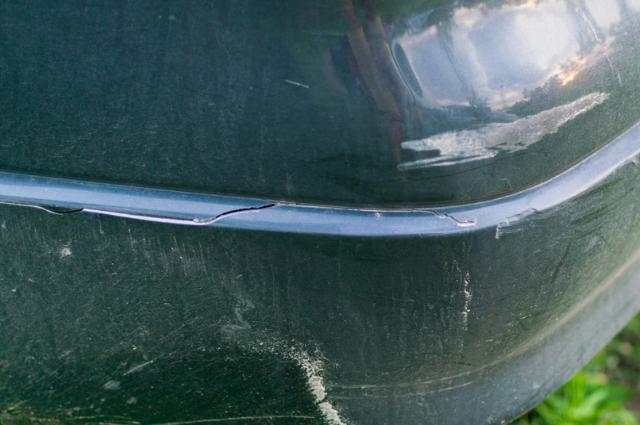Bumper: (4, 171, 306, 265)
